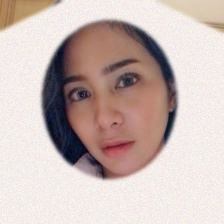Mukena: (0, 25, 221, 224)
